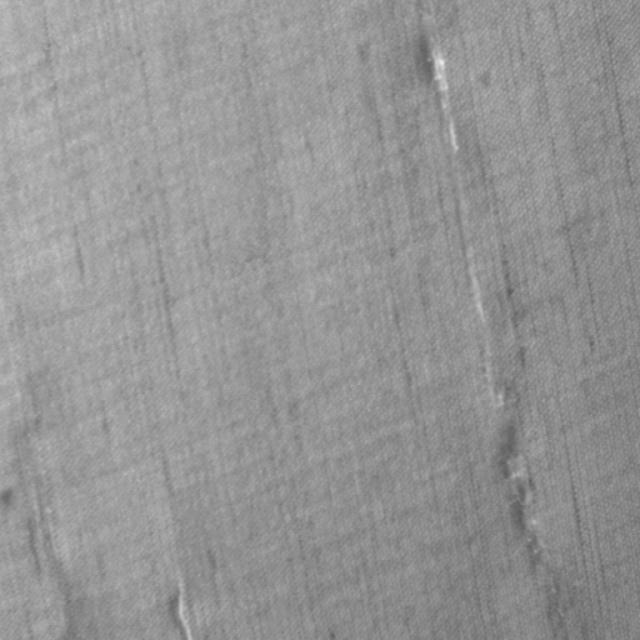thread error: (483, 234, 581, 638), (397, 0, 465, 161), (162, 575, 206, 639)
